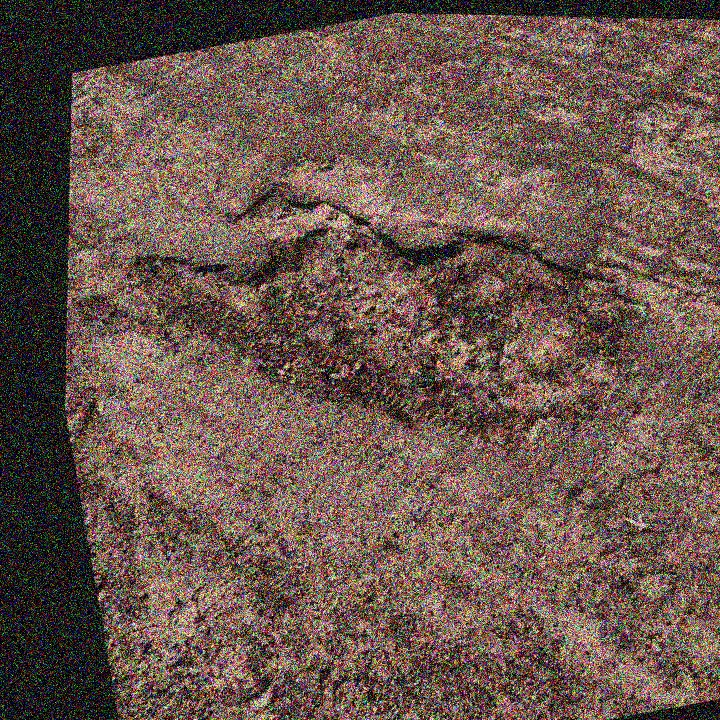pothole: (113, 109, 675, 539)
